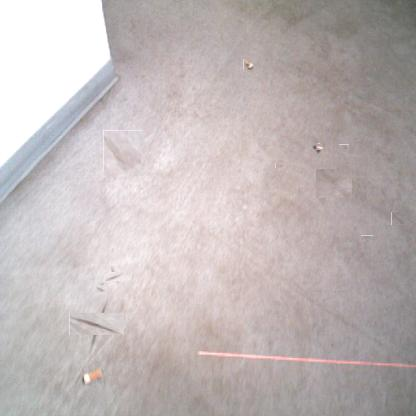dirty: (82, 368, 104, 386), (243, 58, 254, 70), (313, 142, 323, 152)
mark: (103, 130, 142, 171), (78, 305, 116, 344), (317, 166, 351, 200), (108, 268, 122, 284), (392, 211, 406, 226), (98, 283, 108, 293), (363, 233, 372, 242), (277, 161, 285, 170), (340, 144, 349, 152)
